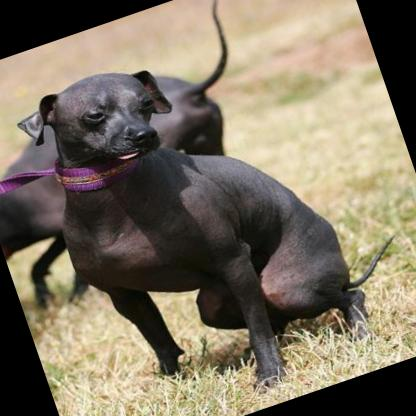Mexican_hairless: (6, 0, 416, 416)
